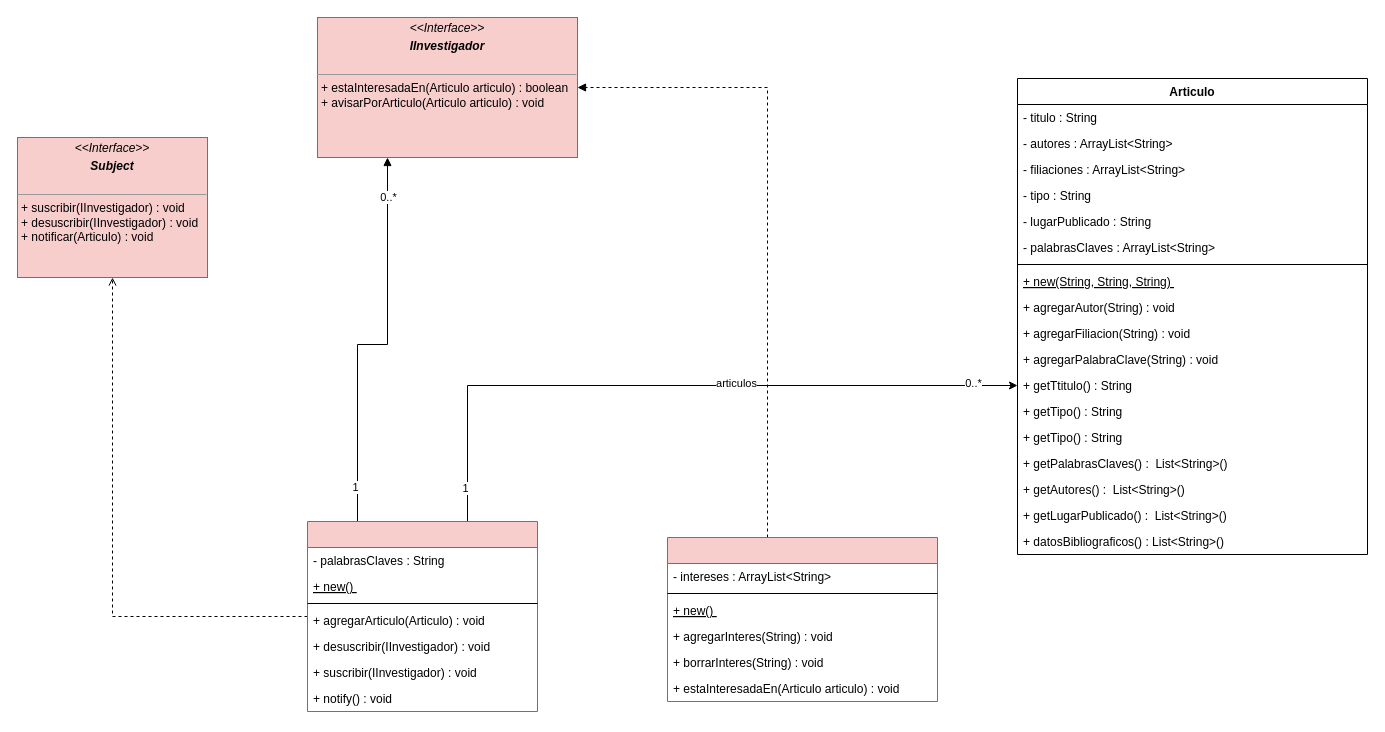
This 1385x732 diagram has some shape labels left out. The box of each missing label's shape, as (x1, y1, x2, y2) in pixels:
Investigador: (666, 536, 938, 702)
SistemaDeReferencia: (306, 520, 538, 712)
